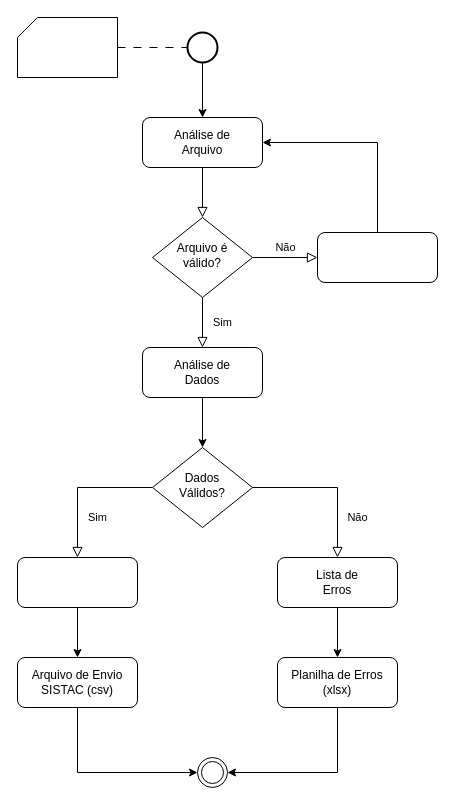
Some shapes in this 455 by 805 pixel diagram are drawn without their labels. Here are the shapes that lost their labels. From the top down, the box of each, then its label:
(16, 16, 118, 78): Arquivo de Solicitações (csv ou xlsx)
(316, 232, 438, 282): Revisar Arquivo
(16, 556, 138, 608): Lista de Solicitações Válidas
